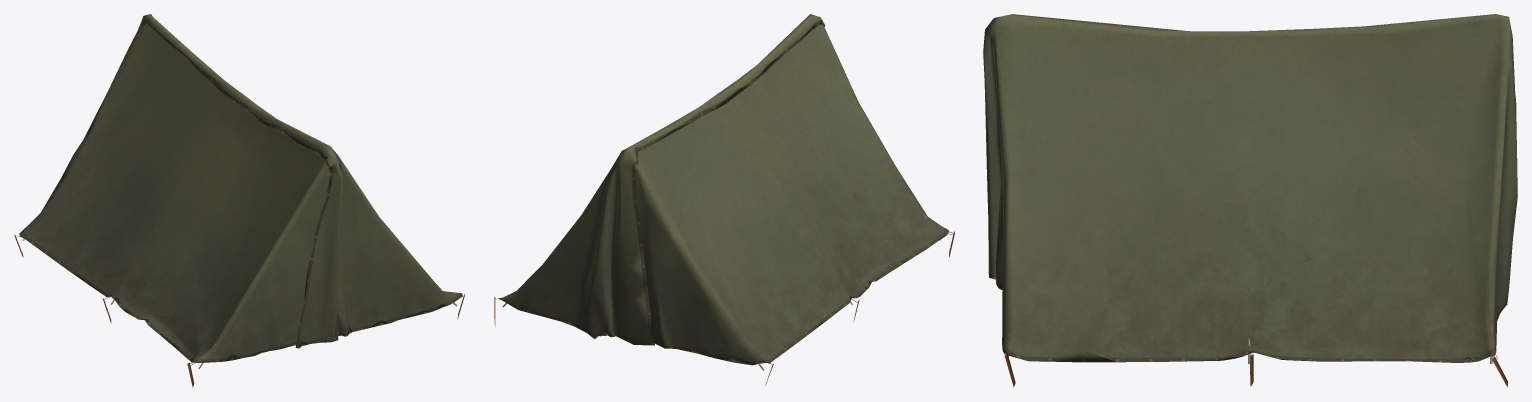
The model's file is SM_Tent_86a.FBX.
3 views of the same model, side by side, from view 1: azimuth 30°, elevation 25°; view 2: azimuth 150°, elevation 25°; view 3: azimuth 270°, elevation 25° (orthographic). The views are drawn at different scales.
Parts seen in each view (by area): view 1: SM_Tent_86a; view 2: SM_Tent_86a; view 3: SM_Tent_86a.
Part boxes in pixels (<box>): SM_Tent_86a: <box>14,14,464,387</box>; SM_Tent_86a: <box>493,14,954,385</box>; SM_Tent_86a: <box>983,14,1517,387</box>.
Bounding box in the file's own units: 185 × 134 × 224.
